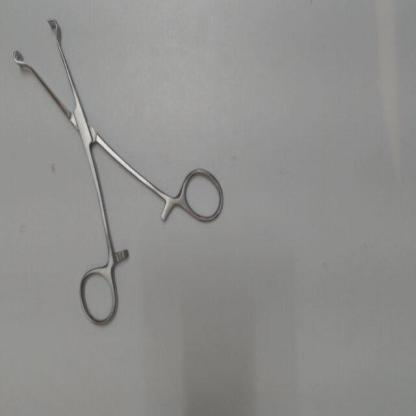Babcock Tissue Forceps: (10, 11, 228, 330)
